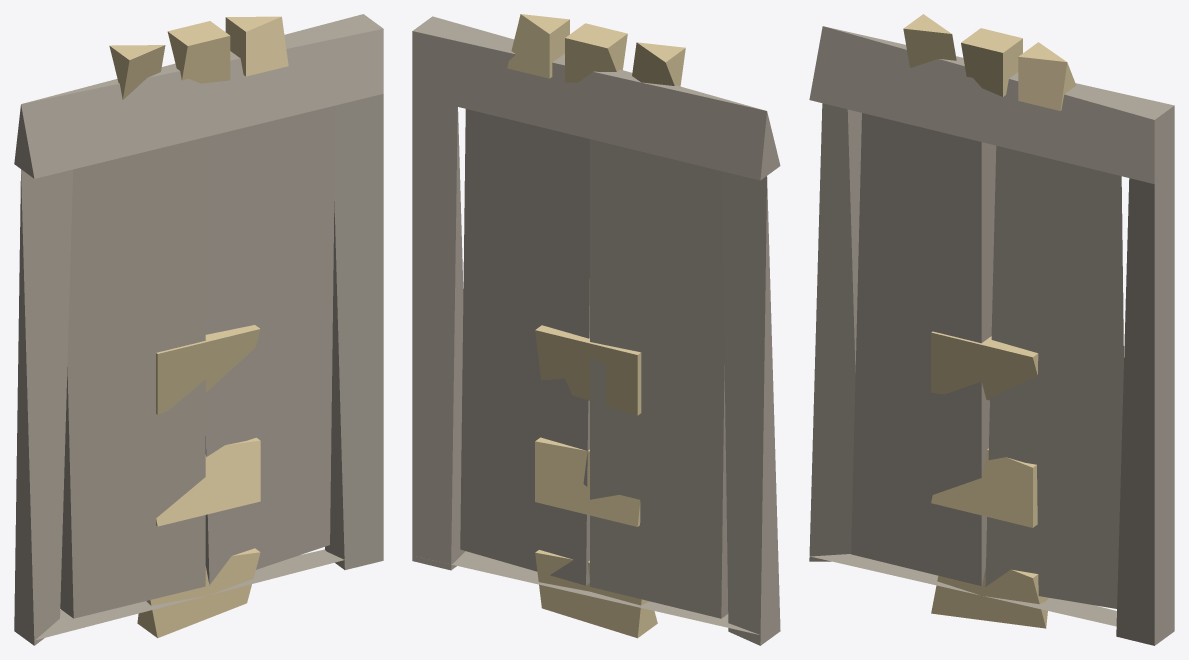
Rendered from 25-Ruinas-Templos_puerta_templo.glb.
The picture shows the model from 3 angles, left to right: view 1: azimuth 30°, elevation 25°; view 2: azimuth 150°, elevation 25°; view 3: azimuth 330°, elevation 25°; orthographic projection.
Parts seen in each view (by area): view 1: SM_Puerta_M_Hoja_Puerta, SM_Puerta_M_Marco_Puerta, SM_Puerta_M_Talla_Puerta; view 2: SM_Puerta_M_Hoja_Puerta, SM_Puerta_M_Marco_Puerta, SM_Puerta_M_Talla_Puerta; view 3: SM_Puerta_M_Hoja_Puerta, SM_Puerta_M_Marco_Puerta, SM_Puerta_M_Talla_Puerta.
Boxes of the visible parts, <box> form: SM_Puerta_M_Hoja_Puerta: <box>60,105,335,618</box>; SM_Puerta_M_Marco_Puerta: <box>14,14,383,645</box>; SM_Puerta_M_Talla_Puerta: <box>109,16,288,638</box>; SM_Puerta_M_Hoja_Puerta: <box>460,109,728,618</box>; SM_Puerta_M_Marco_Puerta: <box>412,16,780,645</box>; SM_Puerta_M_Talla_Puerta: <box>507,14,685,638</box>; SM_Puerta_M_Hoja_Puerta: <box>851,113,1123,608</box>; SM_Puerta_M_Marco_Puerta: <box>809,26,1174,645</box>; SM_Puerta_M_Talla_Puerta: <box>903,14,1076,628</box>.
Size of the model in its own units: 1.8 by 2.88 by 0.181.
